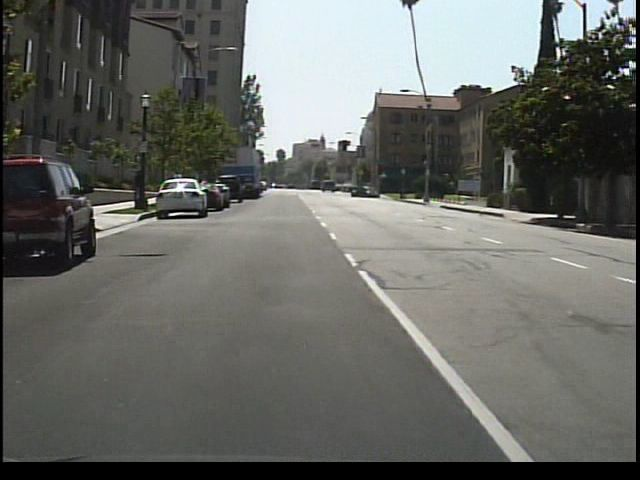person: (131, 167, 141, 202)
